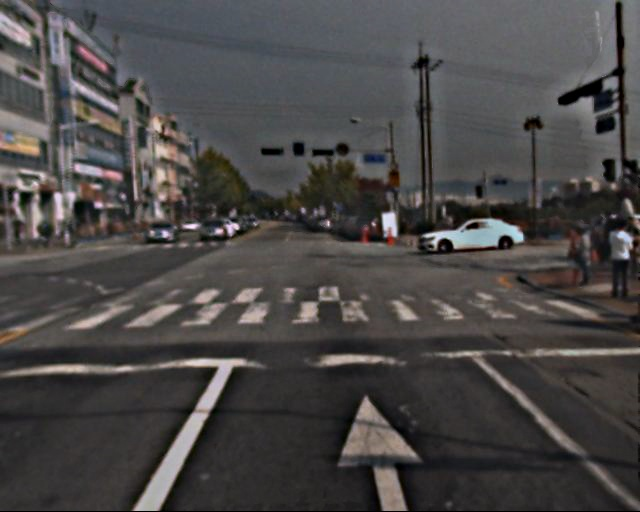person: (595, 221, 636, 302), (562, 226, 590, 292)
